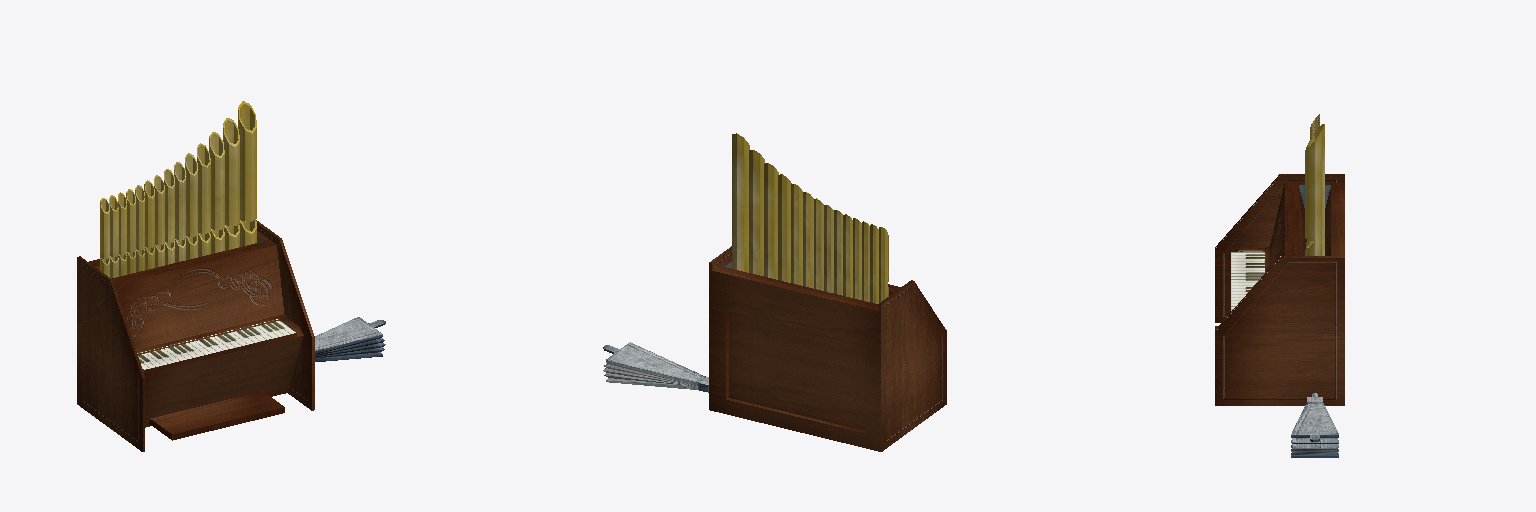
3 renders of one model, left to right at view 1: azimuth 30°, elevation 25°; view 2: azimuth 150°, elevation 25°; view 3: azimuth 270°, elevation 25°, orthographic.
Parts seen in each view (by area): view 1: Osy_; view 2: Osy_; view 3: Osy_.
Boxes of the visible parts, x1,y1,x2,y2 form: Osy_: [77, 101, 385, 451]; Osy_: [603, 133, 946, 451]; Osy_: [1215, 114, 1344, 457].
Size of the model in its own units: 1314 by 1176 by 508.
Materials: 1 (1 with a texture image).